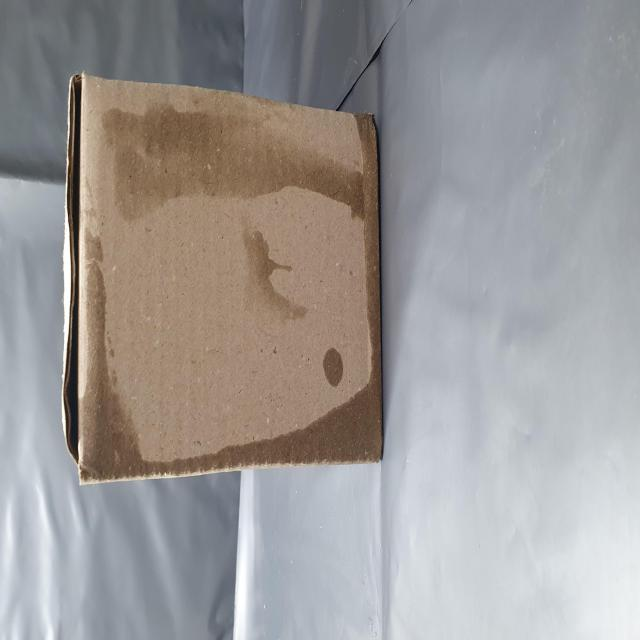wet: (237, 186, 317, 640), (95, 393, 226, 640), (84, 125, 234, 258)
